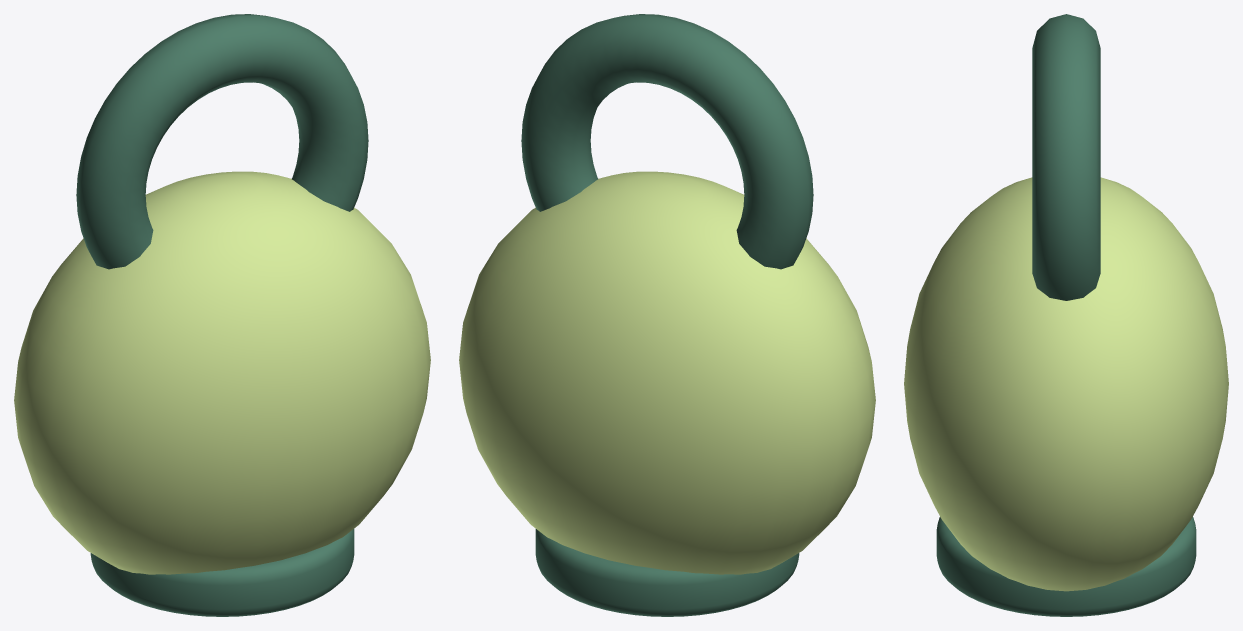
Rendered from kettlebell.glb.
3 views of the same model, side by side, from view 1: azimuth 30°, elevation 25°; view 2: azimuth 150°, elevation 25°; view 3: azimuth 270°, elevation 25° (orthographic).
Parts seen in each view (by area): view 1: Cast body, Grip, Flat foot; view 2: Cast body, Grip, Flat foot; view 3: Cast body, Grip, Flat foot.
Boxes of the visible parts, x1,y1,x2,y2 form: Cast body: (14, 171, 430, 574); Grip: (76, 14, 368, 269); Flat foot: (90, 529, 354, 616); Cast body: (459, 171, 875, 574); Grip: (521, 14, 813, 269); Flat foot: (535, 529, 799, 616); Cast body: (904, 177, 1228, 591); Grip: (1032, 14, 1100, 300); Flat foot: (936, 517, 1196, 616).
Bounding box in the file's own units: 1.34 × 1.85 × 1.
